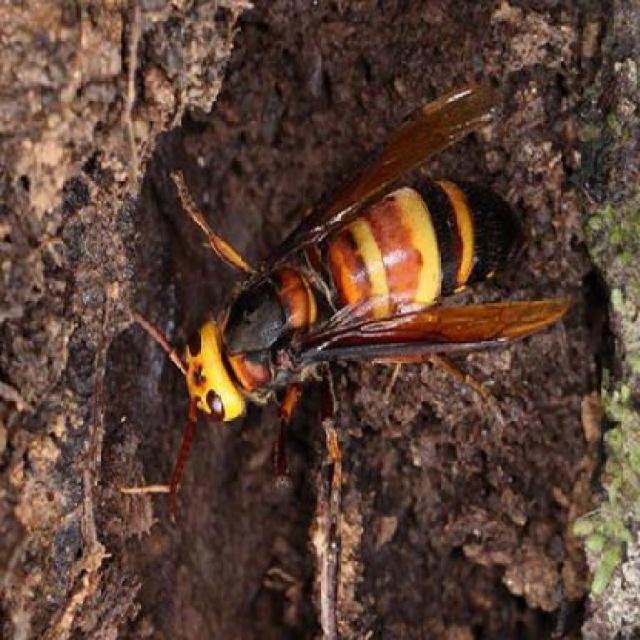Wasp: (129, 83, 573, 446)
